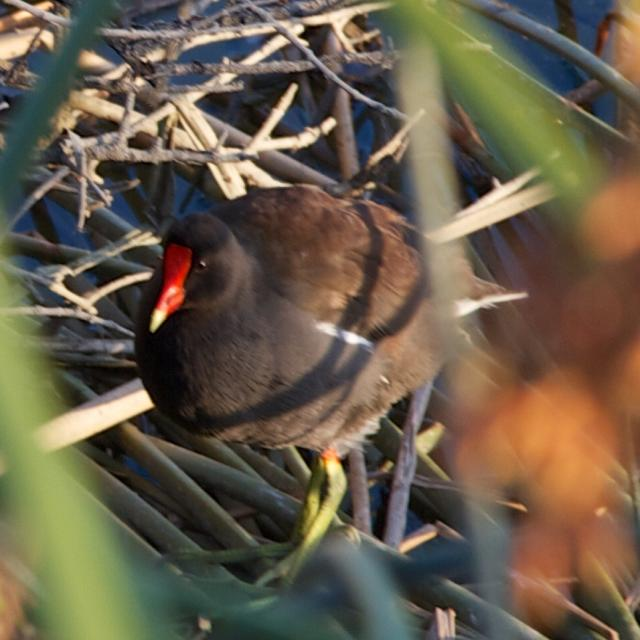bird: (117, 179, 533, 568)
